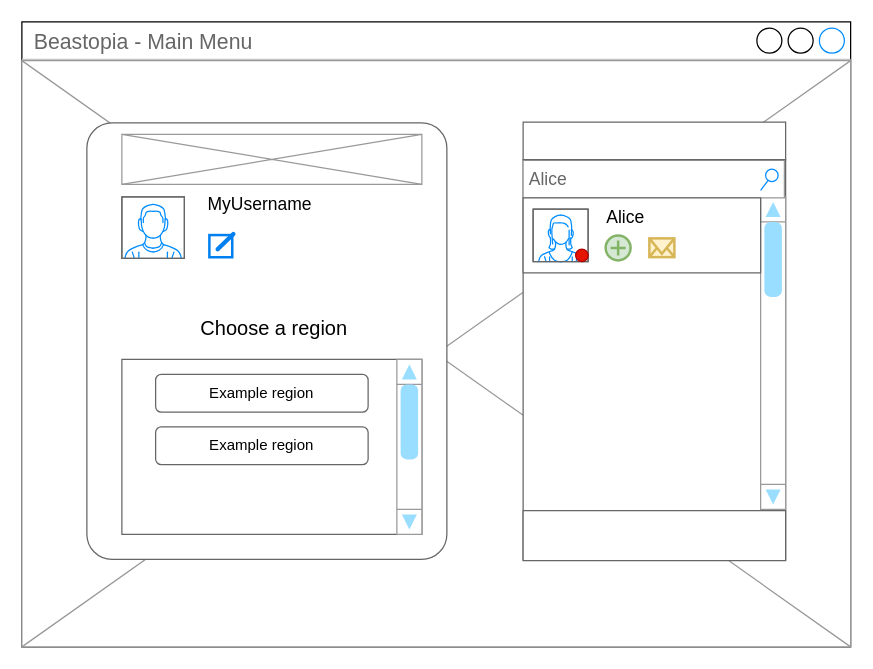
The diagram is 873 pixels wide and 669 high, and some of its shapes have lost their labels. Each missing label, with the centre of its shape:
Friend List: the point at 654,140
Show Chats: the point at 654,535
